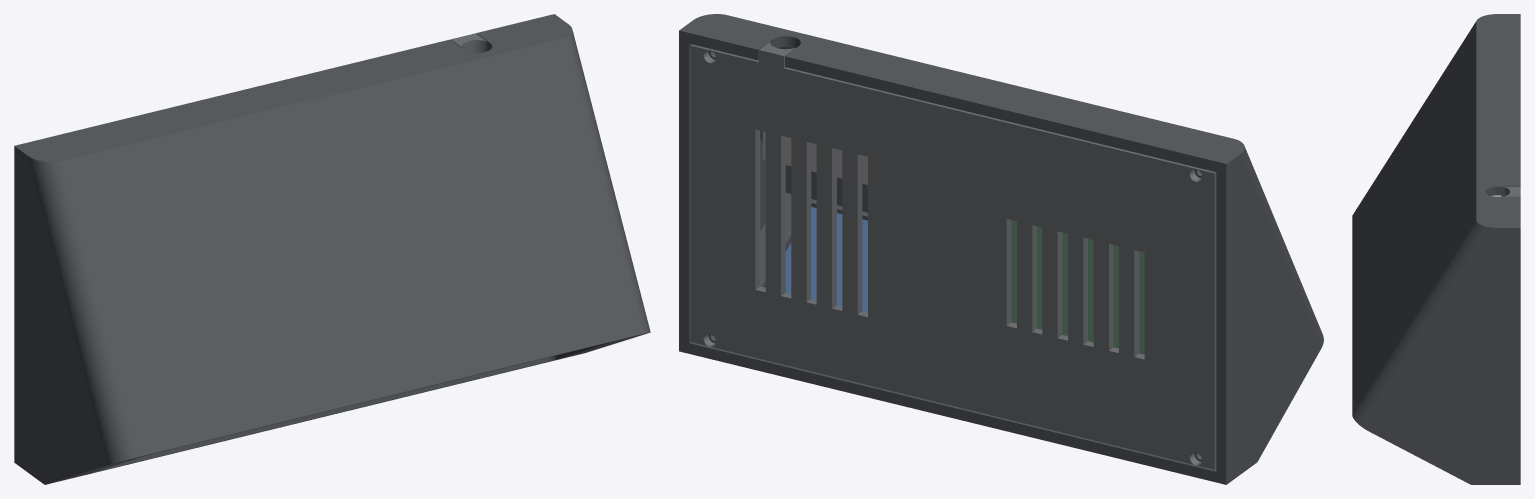
Rendered from asb-r4-assembly-preview.glb.
The picture shows the model from 3 angles, left to right: view 1: azimuth 30°, elevation 25°; view 2: azimuth 150°, elevation 25°; view 3: azimuth 270°, elevation 25°; orthographic projection. The views are drawn at different scales.
Visible parts, largest first — view 1: shell, bezel; view 2: bottom-cover, shell, qualia-dummy, lcd-dummy, usb-c-plug; view 3: shell.
Boxes of the visible parts, x1=… form: shell: x1=14, y1=14, x2=650, y2=484; bezel: x1=54, y1=333, x2=645, y2=482; bottom-cover: x1=691, y1=42, x2=1216, y2=469; shell: x1=679, y1=14, x2=1323, y2=484; qualia-dummy: x1=1011, y1=220, x2=1144, y2=354; lcd-dummy: x1=785, y1=207, x2=867, y2=312; usb-c-plug: x1=762, y1=131, x2=867, y2=184; shell: x1=1352, y1=14, x2=1520, y2=484.
Size of the model in its own units: 107 by 60 by 35.67.
